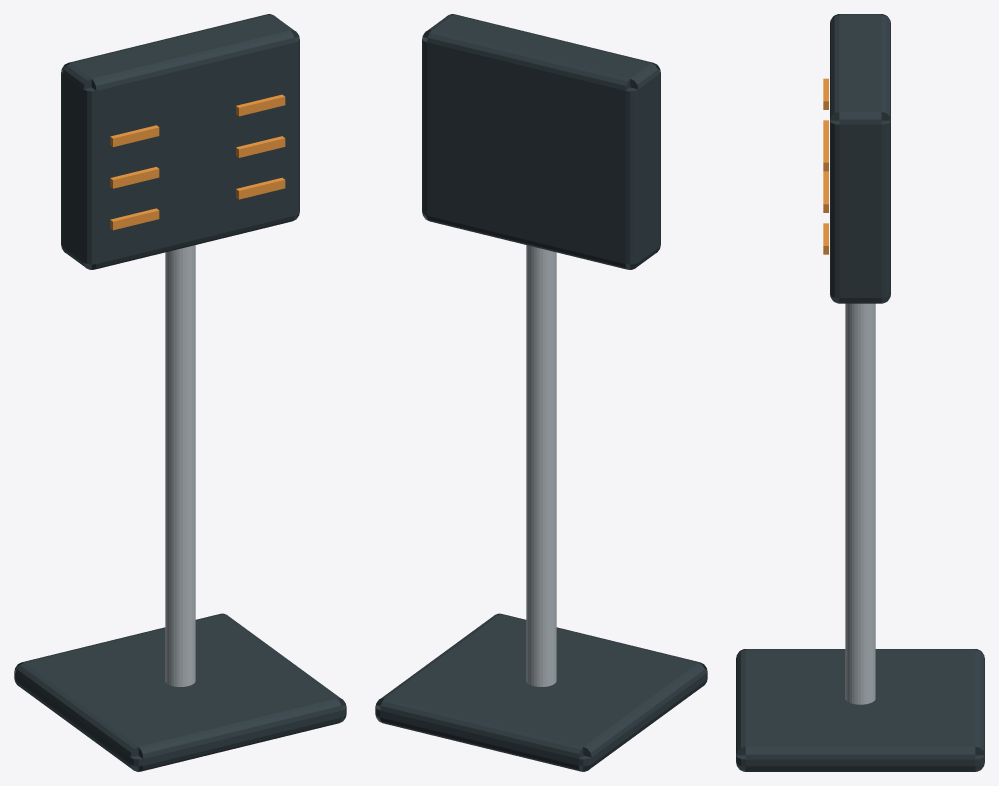
Rendered from basketball-club-and-street-courts-shot-clock-stand-d6b3e161__28554.glb.
3 renders of one model, left to right at view 1: azimuth 30°, elevation 25°; view 2: azimuth 150°, elevation 25°; view 3: azimuth 270°, elevation 25°, orthographic.
Parts seen in each view (by area): view 1: shot-clock-stand; view 2: shot-clock-stand; view 3: shot-clock-stand.
Part boxes in pixels (x1,y1,x2,y2): shot-clock-stand: (14, 14, 346, 771); shot-clock-stand: (375, 14, 707, 771); shot-clock-stand: (736, 14, 984, 771).
Bounding box in the file's own units: 0.65 × 1.9 × 0.65.
